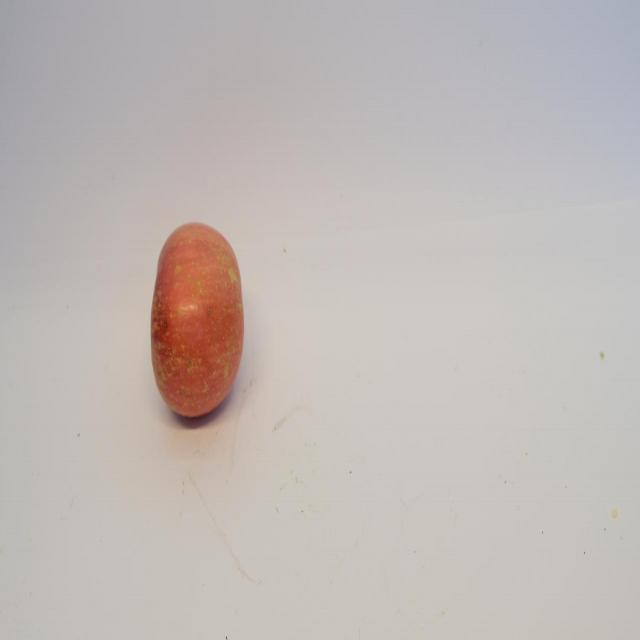apple: (146, 207, 248, 429)
